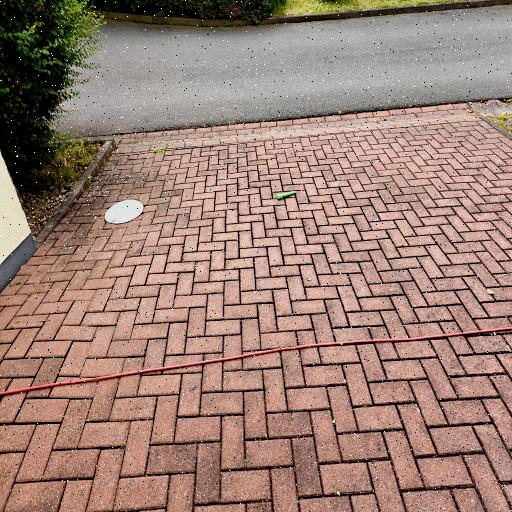Probe-Detection: (276, 191, 296, 200)
